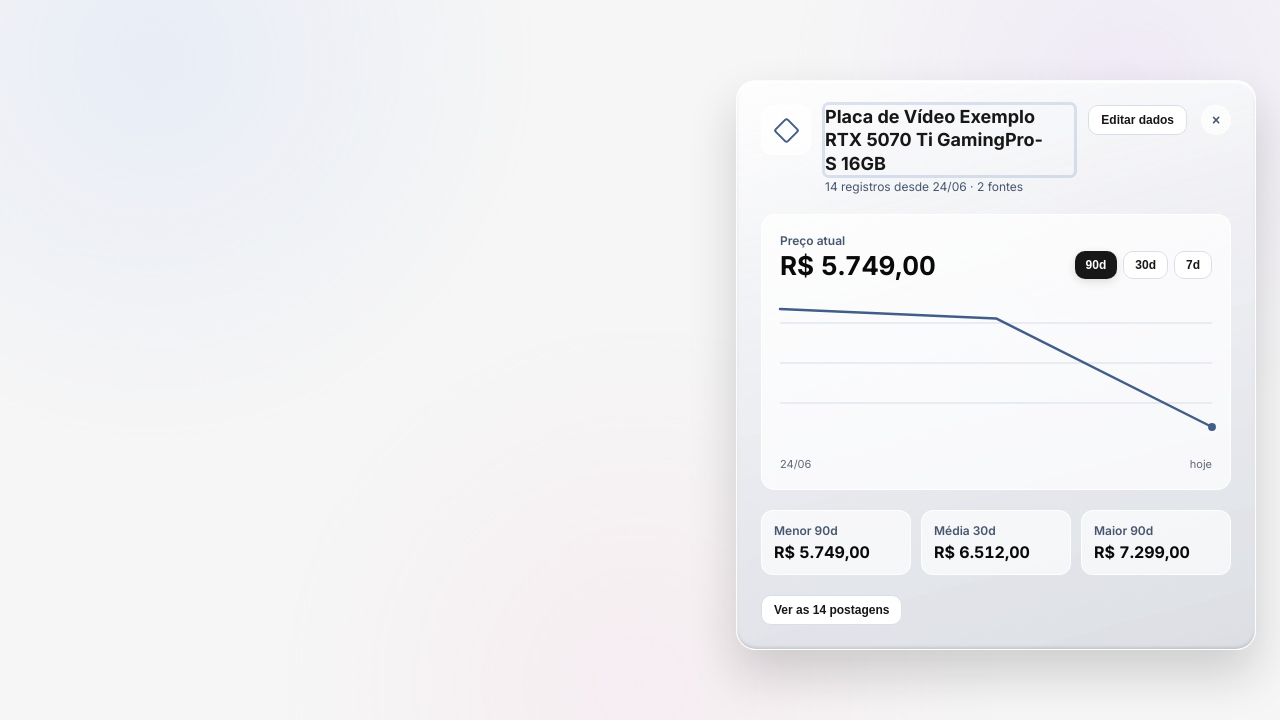
ProductPanel › reveals the postings list only after "Ver as N postagens" is clicked, with source/price/date/link
Expected: the text "Loja Demo Eletrônicos" is not shown
Step 1. Click the button "Ver as 14 postagens" → (832, 610), box [761,596,902,626]
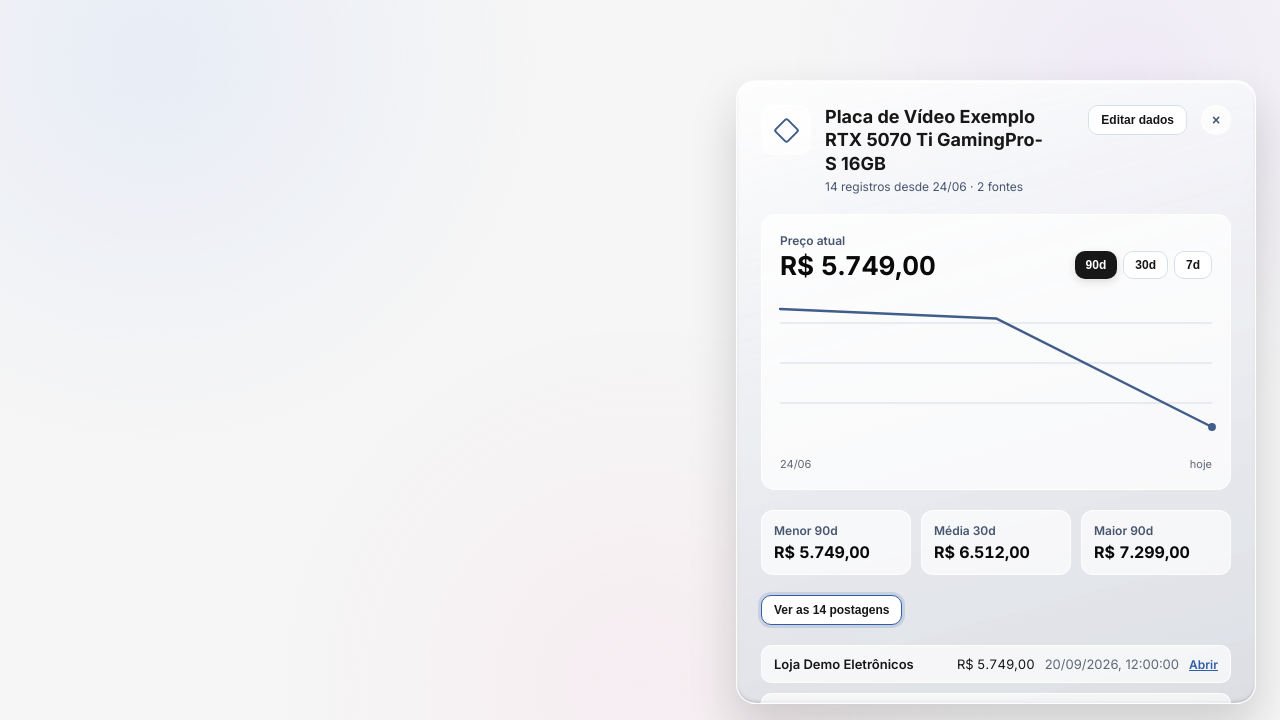
Expected: the text "Loja Demo Eletrônicos" is shown, [774,656,914,672]
